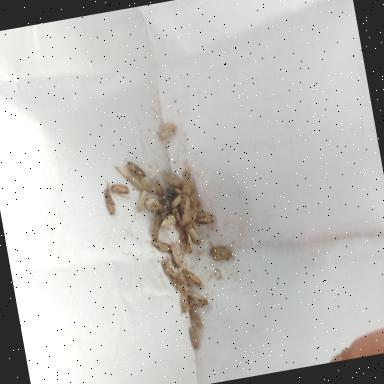pbw: (102, 178, 118, 218), (160, 257, 180, 289), (124, 152, 146, 181), (182, 263, 204, 289), (177, 196, 195, 226), (146, 236, 172, 256), (189, 300, 206, 330), (162, 166, 183, 190), (184, 221, 203, 247), (210, 242, 234, 262), (186, 182, 200, 214), (148, 214, 164, 242), (110, 182, 132, 202), (178, 286, 192, 317), (194, 207, 216, 226), (189, 290, 209, 309), (135, 190, 150, 213), (170, 242, 182, 269), (160, 213, 178, 231), (144, 197, 164, 213), (176, 269, 190, 289), (190, 325, 201, 349), (158, 127, 176, 141), (140, 174, 154, 192), (184, 232, 194, 255), (170, 194, 185, 207), (172, 207, 182, 224)
